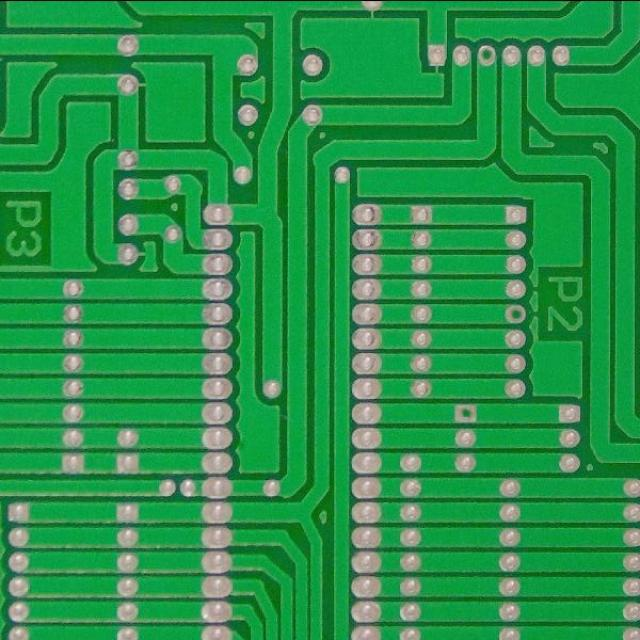missing_hole: (477, 42, 501, 68), (451, 402, 479, 424), (500, 303, 528, 324)
